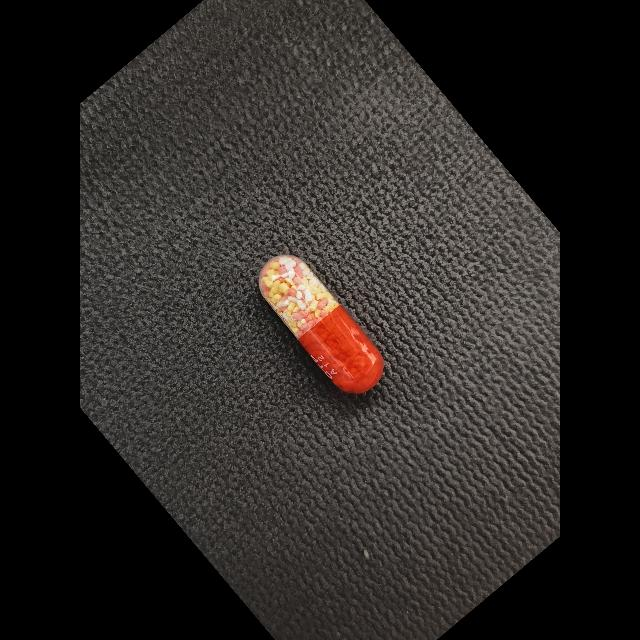Intact Capsule: (258, 255, 384, 393)
